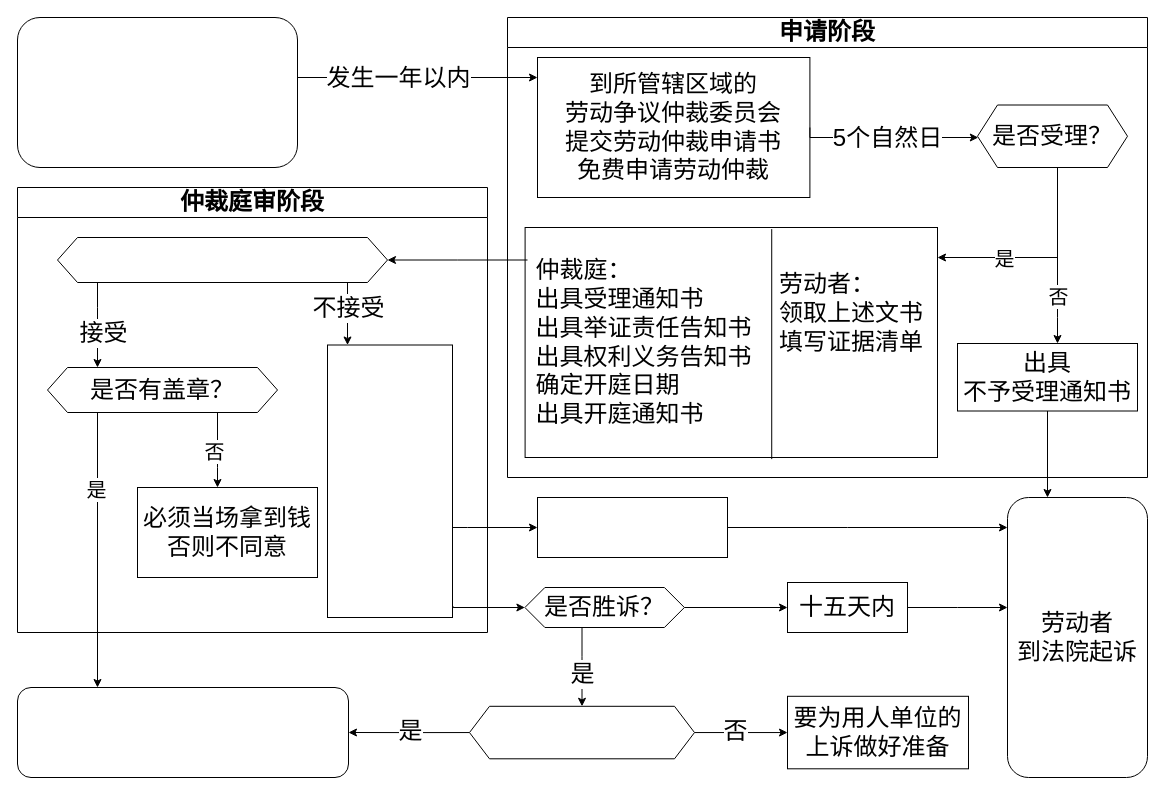
The diagram is 1165 pixels wide and 795 high, and some of its shapes have lost their labels. Here are the shapes that lost their labels. From the top down, the centre of each, then its label:
(157,92): 认定劳动关系 拖欠工资、加班工资 拒绝支付补偿金、赔偿金 欠缴社保，等等
(222,259): 是否庭前调解（并撤诉）？
(389,481): 开庭
(632,527): 逾期未做出判决
(182,732): 后续若公司不履行 到法院申请强制执行
(581,732): 是否为一裁终局？
